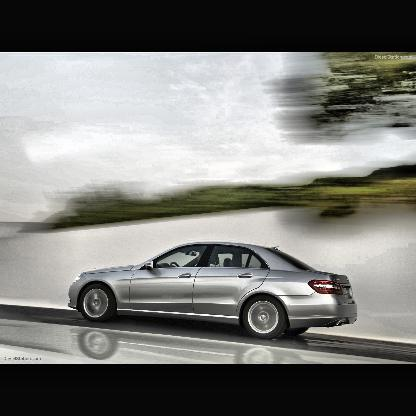Mercedes-Benz E-Class Sedan 2012: (69, 243, 360, 343)
